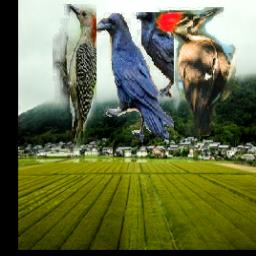Crow: (96, 12, 175, 142)
Woodpecker: (156, 8, 239, 137), (53, 5, 96, 156)
